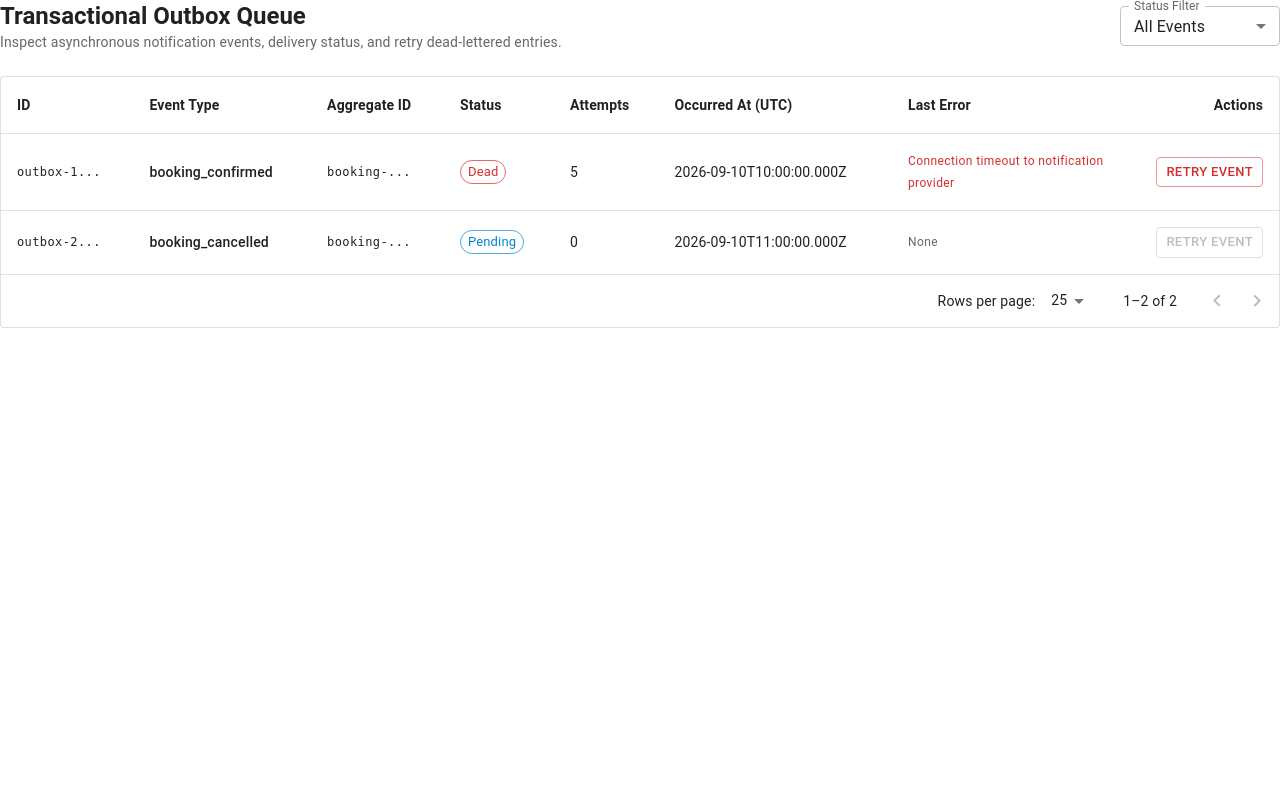
Scenario: Admin Operations — Audit & Outbox (Spec 7.1, 8.3, 4.2 E30-E32) › OutboxTable enables retry ONLY for dead items and handles confirmation and 409 INVALID_STATE
Check: the heading "Transactional Outbox Queue" is shown, box [0,2,306,30]
Check: the text "Dead" is shown, box [468,164,498,179]
Step 1. Click the button "Retry Event" in the row of "outbox-1" → (1210, 172), box [1156,157,1263,187]
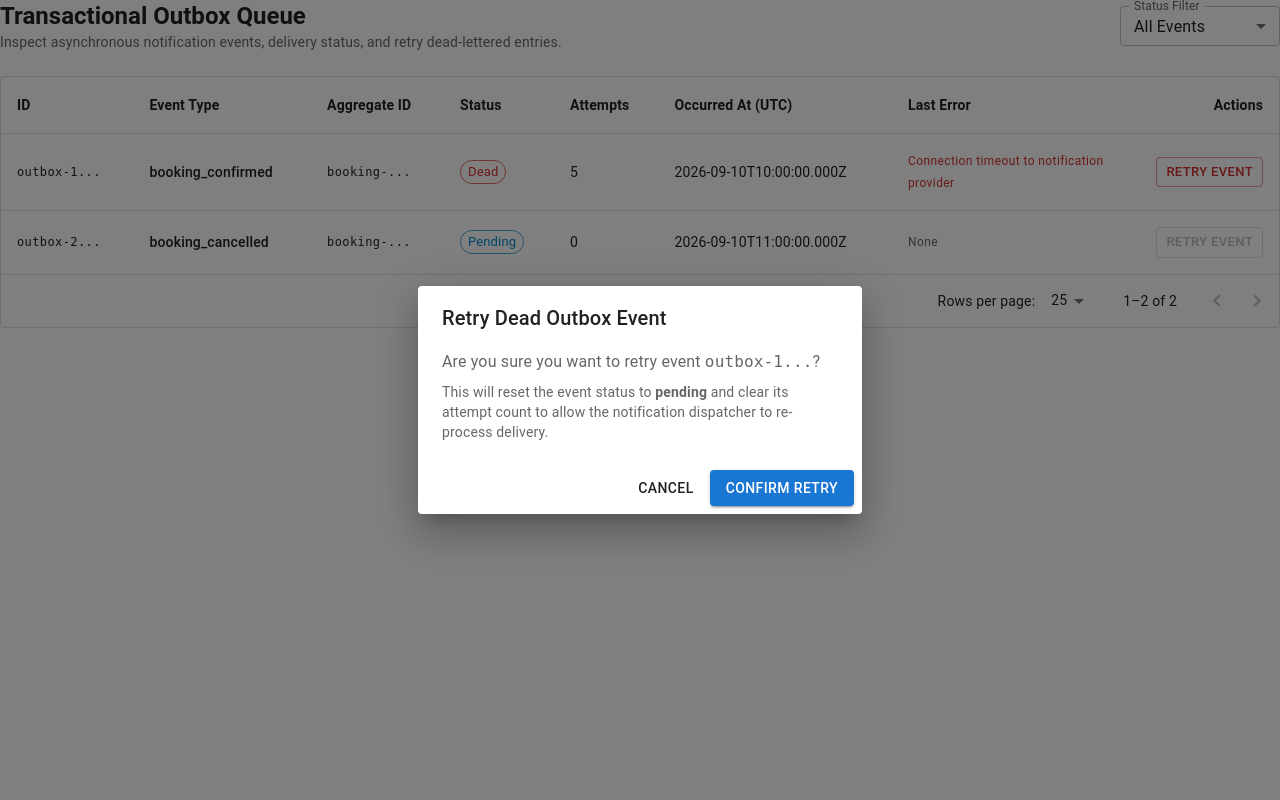
Check: the heading "Retry Dead Outbox Event" is shown, box [442,306,667,330]
Check: the text "Are you sure you want to retry event outbox-1...?" is shown, box [442,350,838,374]
Step 2. Click the button "Confirm Retry" → (782, 488), box [710,470,854,506]
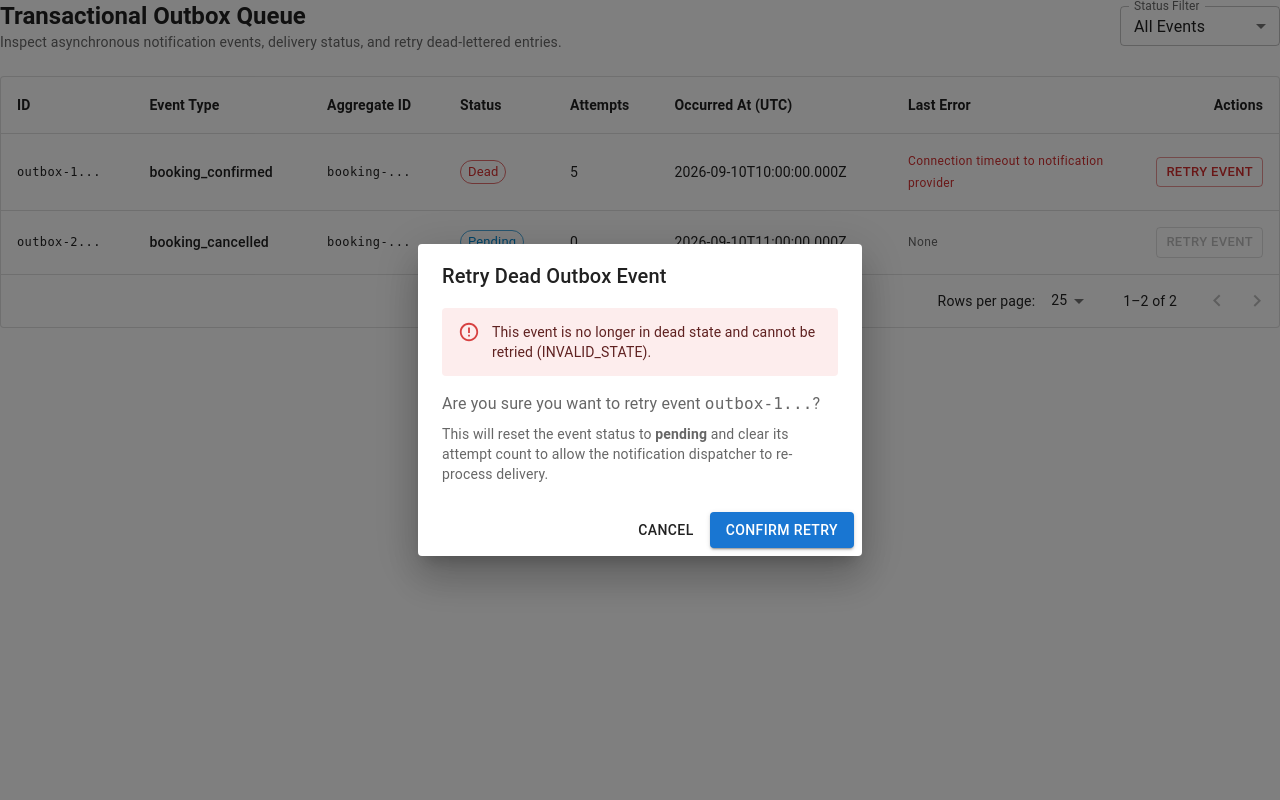
Check: the message "This event is no longer in dead state and cannot be retried (INVALID_STATE)." is shown, box [442,308,838,376]
Check: the text "no longer in dead state" is shown, box [492,324,815,360]
